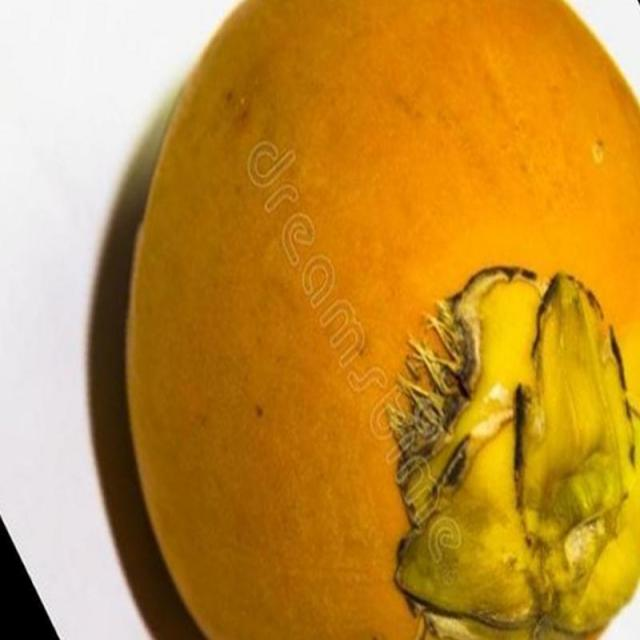good: (127, 0, 639, 639)
